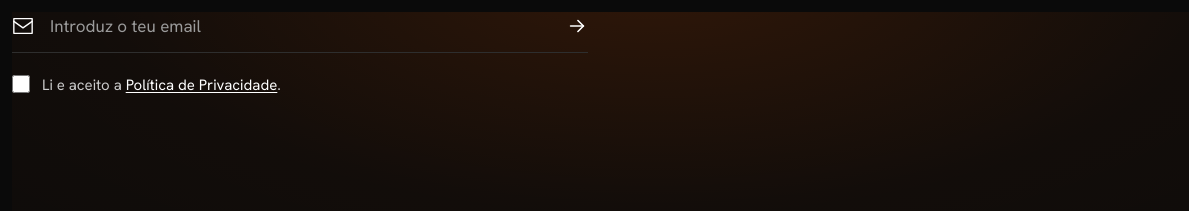
NewsletterForm › shows a validation error when submitted empty
Click the button named "Subscrever newsletter" at (577, 26), box 566,15 -> 588,37
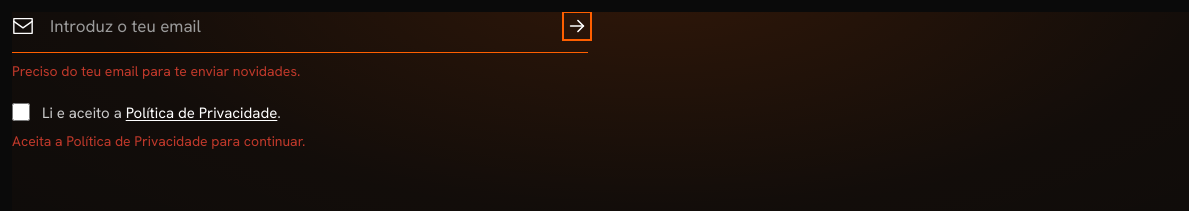
Now the text "Preciso do teu email para te enviar novidades." is shown, box 12,62 -> 300,80
